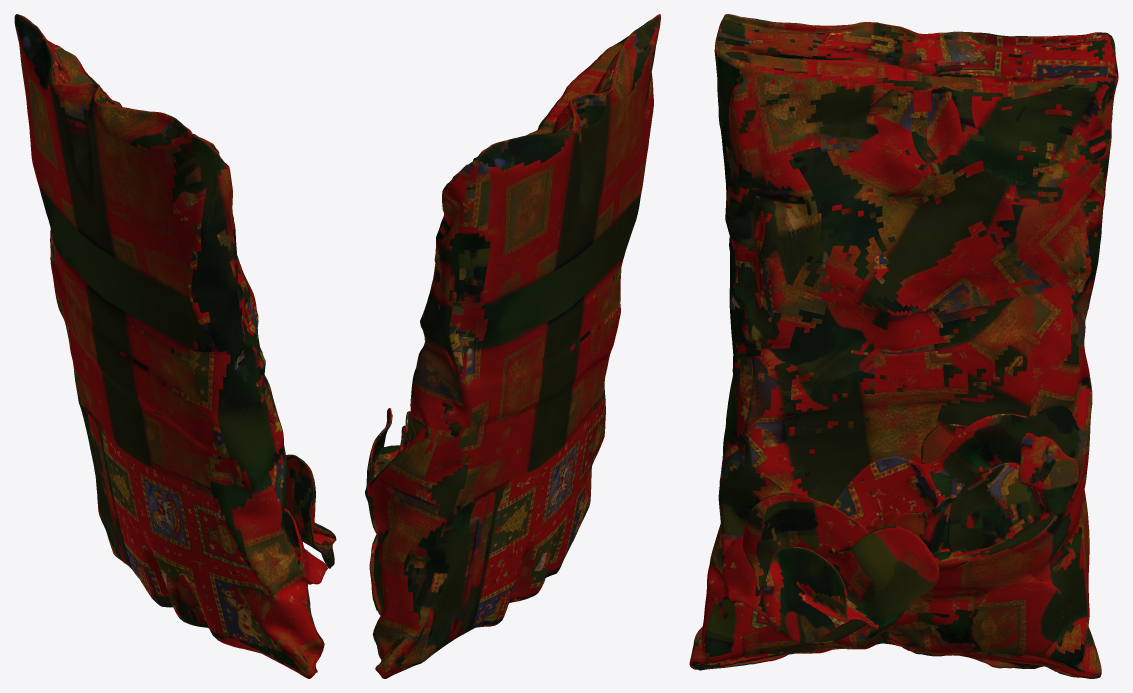
File: PapasMargarita.fbx
3 views of the same model, side by side, from view 1: azimuth 30°, elevation 25°; view 2: azimuth 150°, elevation 25°; view 3: azimuth 270°, elevation 25° (orthographic). The views are drawn at different scales.
Parts seen in each view (by area): view 1: tripo_node_048b8102; view 2: tripo_node_048b8102; view 3: tripo_node_048b8102.
Boxes of the visible parts, x1,y1,x2,y2 form: tripo_node_048b8102: (14,14,336,678); tripo_node_048b8102: (365,14,660,678); tripo_node_048b8102: (689,14,1118,678).
Bounding box in the file's own units: 0.3762 × 0.9934 × 0.6334.
